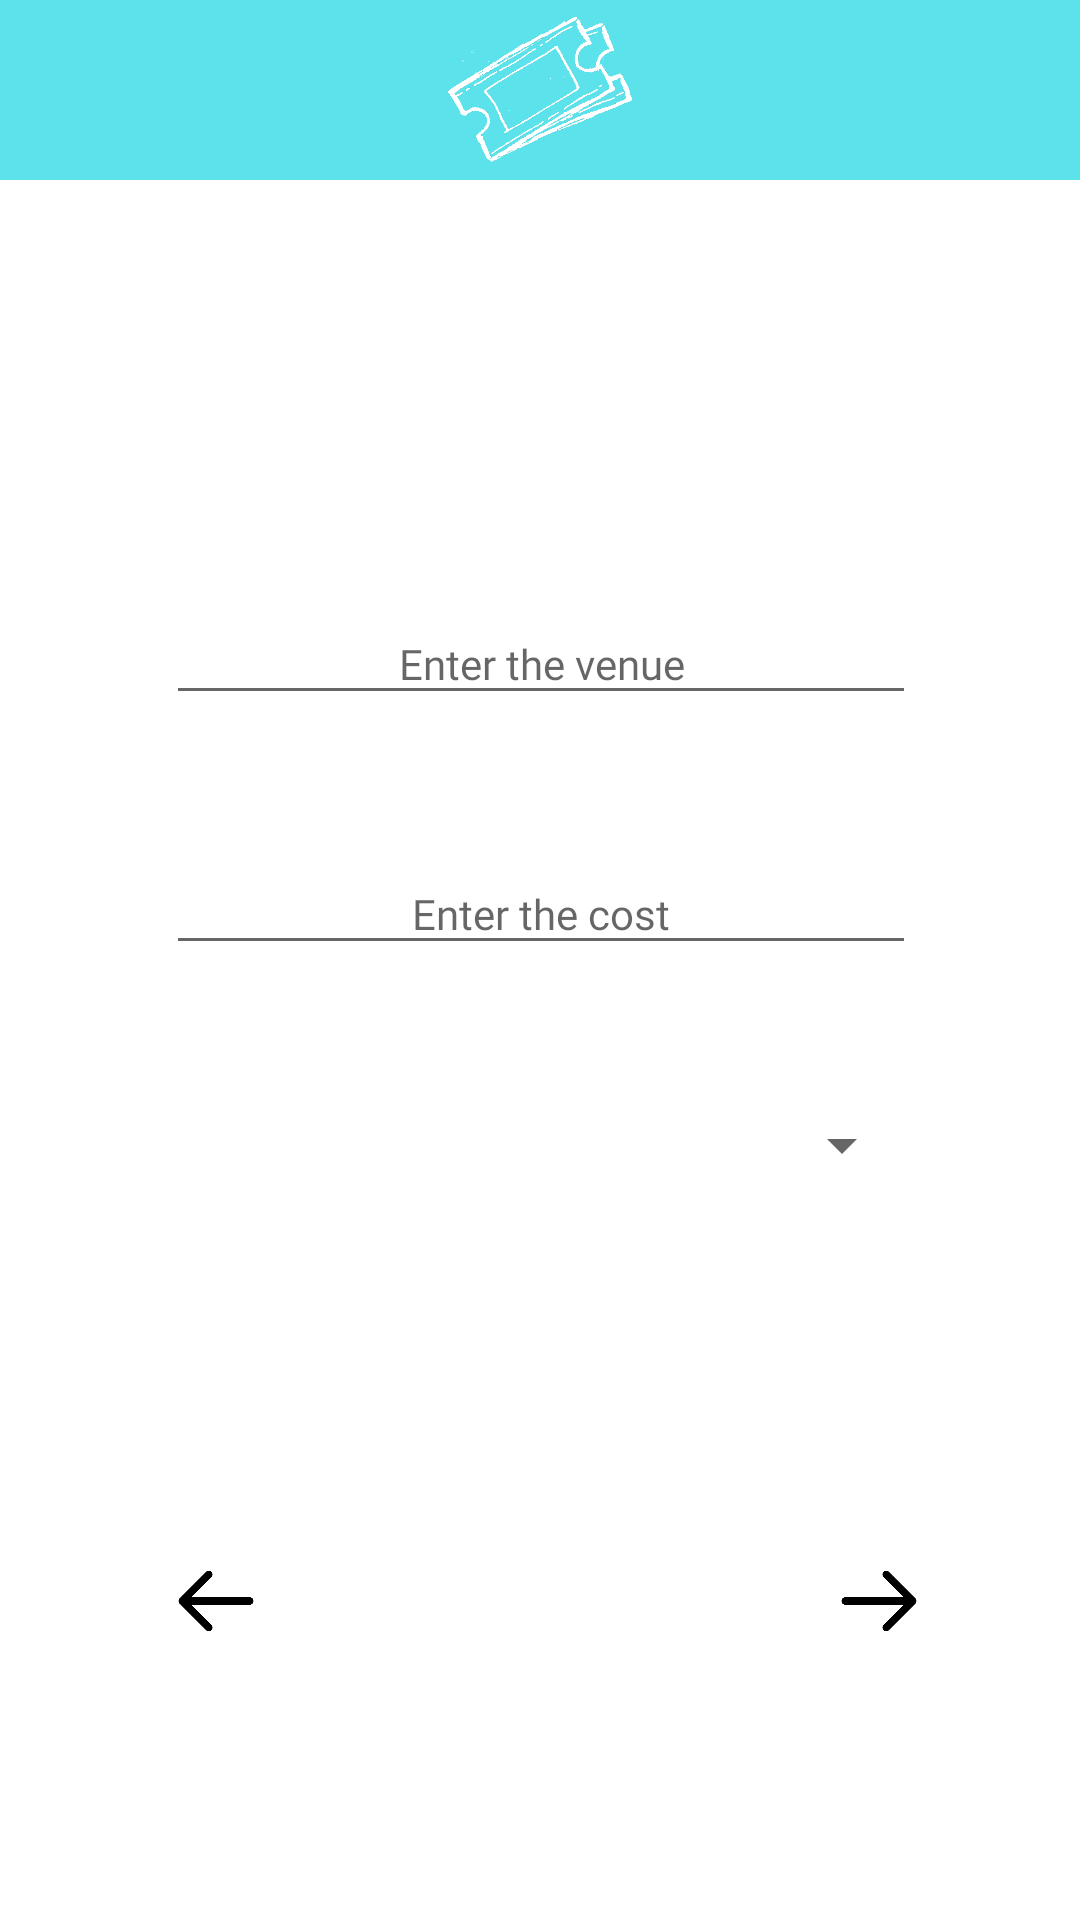

Screen size 1080w x 1920h. Icon name, then its box in pixels as [left=x1, top=y1, right=x2, bottom=y2]:
back: [left=178, top=1571, right=254, bottom=1631]
next: [left=841, top=1571, right=917, bottom=1631]
